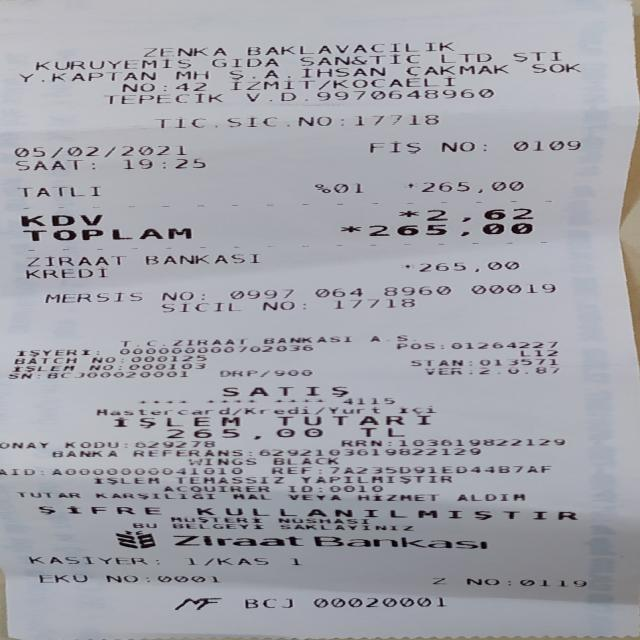text: (194, 506, 578, 520), (244, 88, 493, 101), (312, 536, 485, 550), (226, 115, 437, 126), (366, 223, 532, 236), (256, 447, 482, 456), (21, 228, 190, 240), (11, 145, 185, 156), (244, 43, 452, 52), (275, 414, 429, 426), (328, 465, 555, 473), (164, 427, 321, 438), (38, 502, 158, 516), (172, 534, 300, 547), (311, 596, 444, 608), (32, 59, 190, 69), (50, 467, 242, 475), (112, 416, 239, 428), (221, 386, 347, 398), (143, 252, 258, 265), (102, 92, 222, 104), (422, 207, 532, 220), (299, 475, 451, 484), (93, 406, 229, 416), (117, 346, 311, 353), (278, 522, 412, 532), (418, 180, 520, 193), (397, 438, 562, 446), (28, 555, 146, 566), (41, 290, 140, 303), (330, 77, 455, 87), (26, 254, 124, 266), (49, 70, 155, 81), (424, 260, 519, 272), (15, 185, 100, 198), (18, 213, 102, 226), (174, 475, 282, 485), (95, 491, 213, 500), (297, 65, 385, 77), (404, 64, 508, 74), (468, 282, 553, 294), (23, 267, 107, 279), (120, 157, 203, 169), (332, 297, 414, 309), (154, 301, 242, 312), (227, 79, 314, 90), (161, 484, 267, 493), (511, 138, 579, 152), (141, 45, 225, 56), (172, 522, 262, 532), (12, 158, 85, 170), (277, 516, 374, 525), (131, 448, 240, 456), (170, 515, 260, 524), (358, 492, 437, 502), (152, 115, 207, 129), (242, 404, 312, 415), (226, 66, 289, 78), (366, 140, 420, 154), (448, 341, 556, 348), (210, 56, 276, 67), (46, 372, 189, 377), (134, 439, 213, 448), (478, 357, 555, 366), (186, 456, 255, 466), (381, 285, 450, 295), (476, 366, 560, 374), (222, 289, 295, 298), (92, 476, 157, 486), (217, 554, 267, 567), (368, 52, 421, 64), (438, 52, 491, 64), (261, 336, 351, 343), (127, 362, 205, 370), (298, 54, 349, 66), (128, 354, 204, 362), (271, 456, 338, 465), (324, 404, 378, 415), (456, 493, 522, 502), (518, 578, 584, 587), (171, 597, 220, 609), (512, 50, 560, 62), (531, 62, 579, 74), (335, 395, 392, 405), (17, 490, 79, 499), (386, 403, 434, 414), (49, 449, 114, 457), (242, 598, 294, 608), (438, 139, 474, 153), (357, 426, 402, 437), (158, 288, 193, 302), (259, 298, 294, 312), (326, 484, 380, 493), (154, 575, 223, 582), (63, 440, 116, 449), (287, 492, 340, 501), (37, 573, 84, 583), (11, 356, 76, 363), (172, 68, 209, 80), (174, 338, 248, 344), (16, 349, 89, 355), (408, 358, 461, 366), (0, 440, 47, 449), (119, 81, 154, 93), (312, 288, 364, 296), (12, 365, 80, 371), (422, 366, 462, 376), (174, 80, 205, 92), (332, 182, 363, 194), (219, 368, 256, 378), (395, 342, 434, 351), (0, 467, 35, 477), (396, 207, 418, 222), (274, 368, 310, 377), (366, 334, 406, 342), (518, 348, 558, 356), (339, 438, 379, 446), (270, 466, 309, 474), (105, 574, 136, 584), (338, 224, 360, 238), (118, 339, 160, 346), (232, 492, 268, 500), (128, 520, 158, 529), (464, 577, 494, 585), (312, 181, 329, 195), (348, 53, 366, 66), (89, 355, 115, 363), (7, 371, 30, 380), (87, 363, 112, 371), (286, 484, 308, 493), (21, 70, 36, 83), (314, 78, 329, 90), (403, 261, 417, 273), (196, 287, 204, 302), (289, 555, 299, 567), (85, 157, 94, 170), (233, 405, 243, 416), (316, 404, 326, 415), (33, 370, 43, 380), (467, 366, 477, 375), (204, 555, 212, 566), (479, 139, 485, 153), (299, 297, 305, 311), (263, 368, 271, 378), (432, 576, 442, 584), (159, 80, 165, 93), (187, 555, 194, 566), (153, 554, 159, 566), (404, 182, 416, 188), (40, 467, 47, 476), (244, 448, 250, 456), (94, 346, 98, 356), (438, 340, 442, 350), (117, 354, 122, 362), (385, 438, 390, 446), (508, 578, 513, 586), (117, 362, 121, 371), (316, 484, 319, 493), (317, 466, 320, 474), (123, 439, 125, 449), (145, 574, 147, 584), (468, 358, 470, 367)
